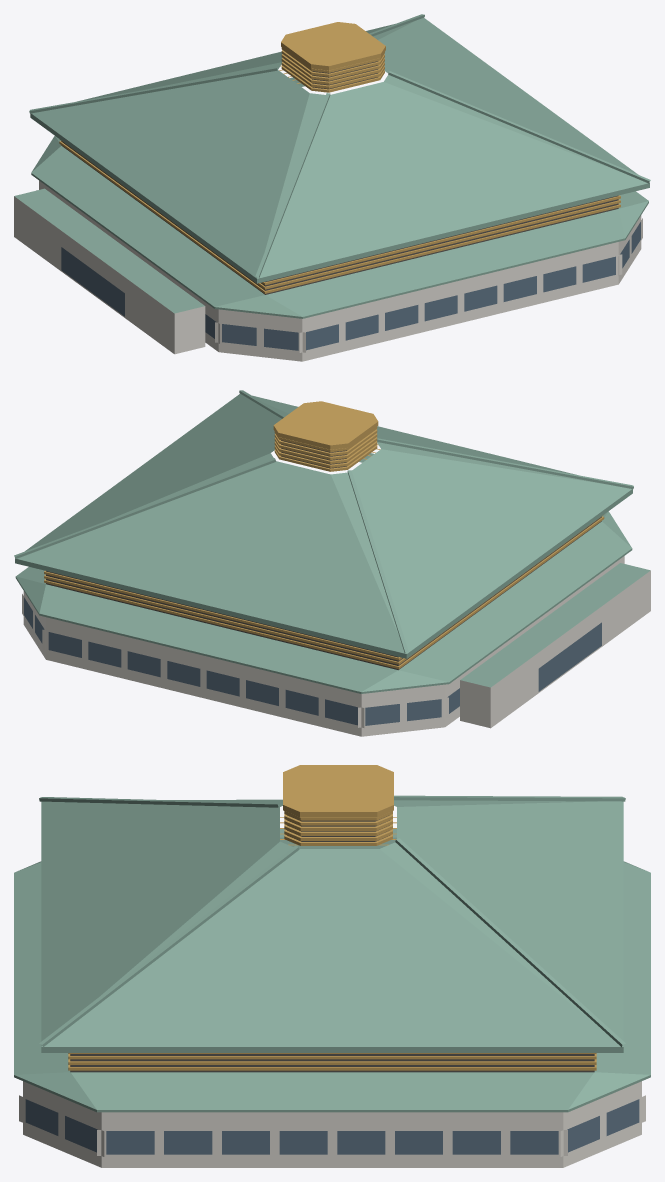
Rendered from tokyo-ryogoku-kokugikan.glb.
3 renders of one model, top to bottom at view 1: azimuth 30°, elevation 25°; view 2: azimuth 150°, elevation 25°; view 3: azimuth 270°, elevation 25°, orthographic. The views are drawn at different scales.
Visible parts, largest first — view 1: Ryōgoku Kokugikan; view 2: Ryōgoku Kokugikan; view 3: Ryōgoku Kokugikan.
Boxes of the visible parts, x1,y1,x2,y2 form: Ryōgoku Kokugikan: (14,14,650,361); Ryōgoku Kokugikan: (14,390,650,736); Ryōgoku Kokugikan: (14,765,650,1167).
Bounding box in the file's own units: 101 × 39.6 × 93.6.
